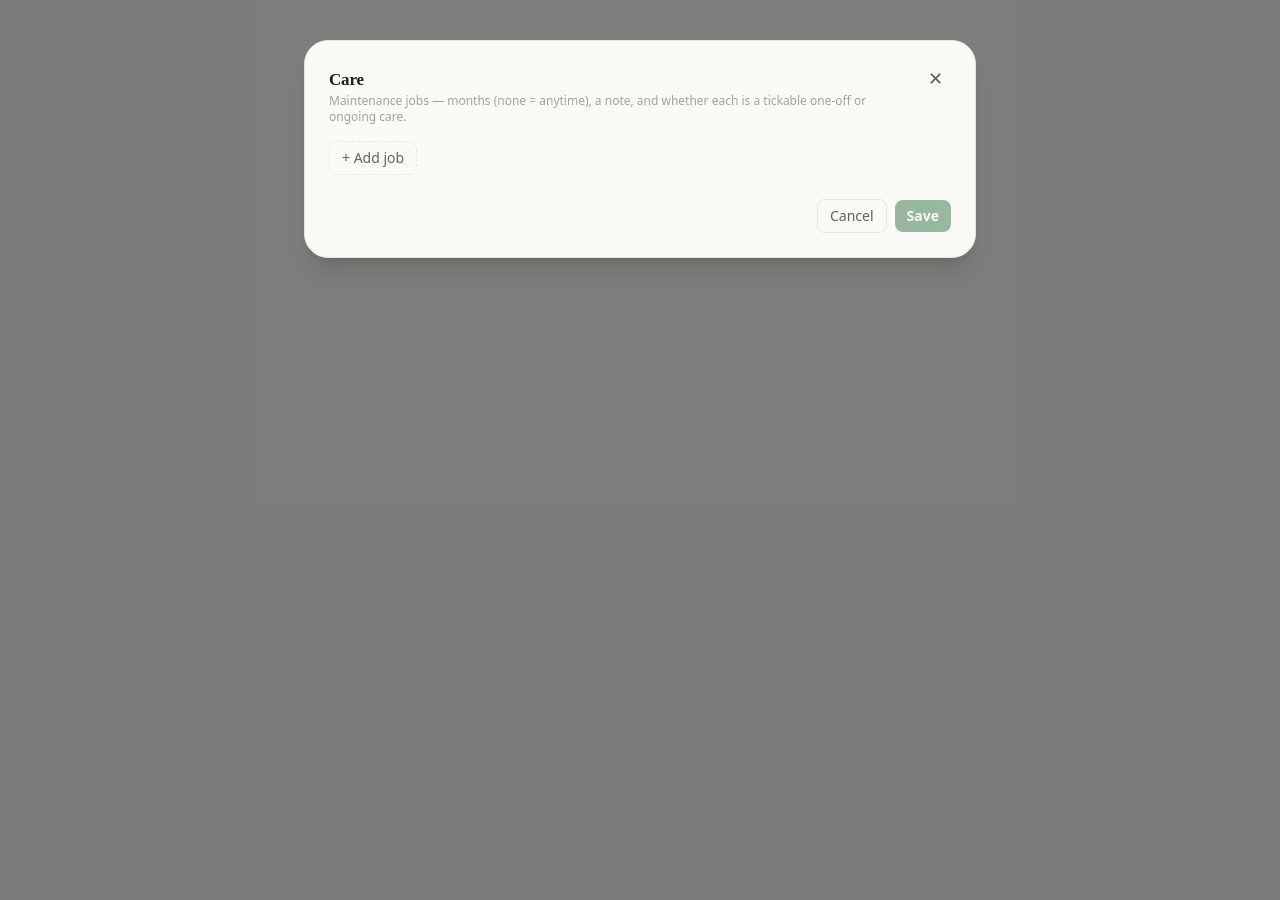
Test case: CareEditor › adding a blank job stays clean until it has an action
Click the button "+ Add job": (373, 158) [329,140,417,174]
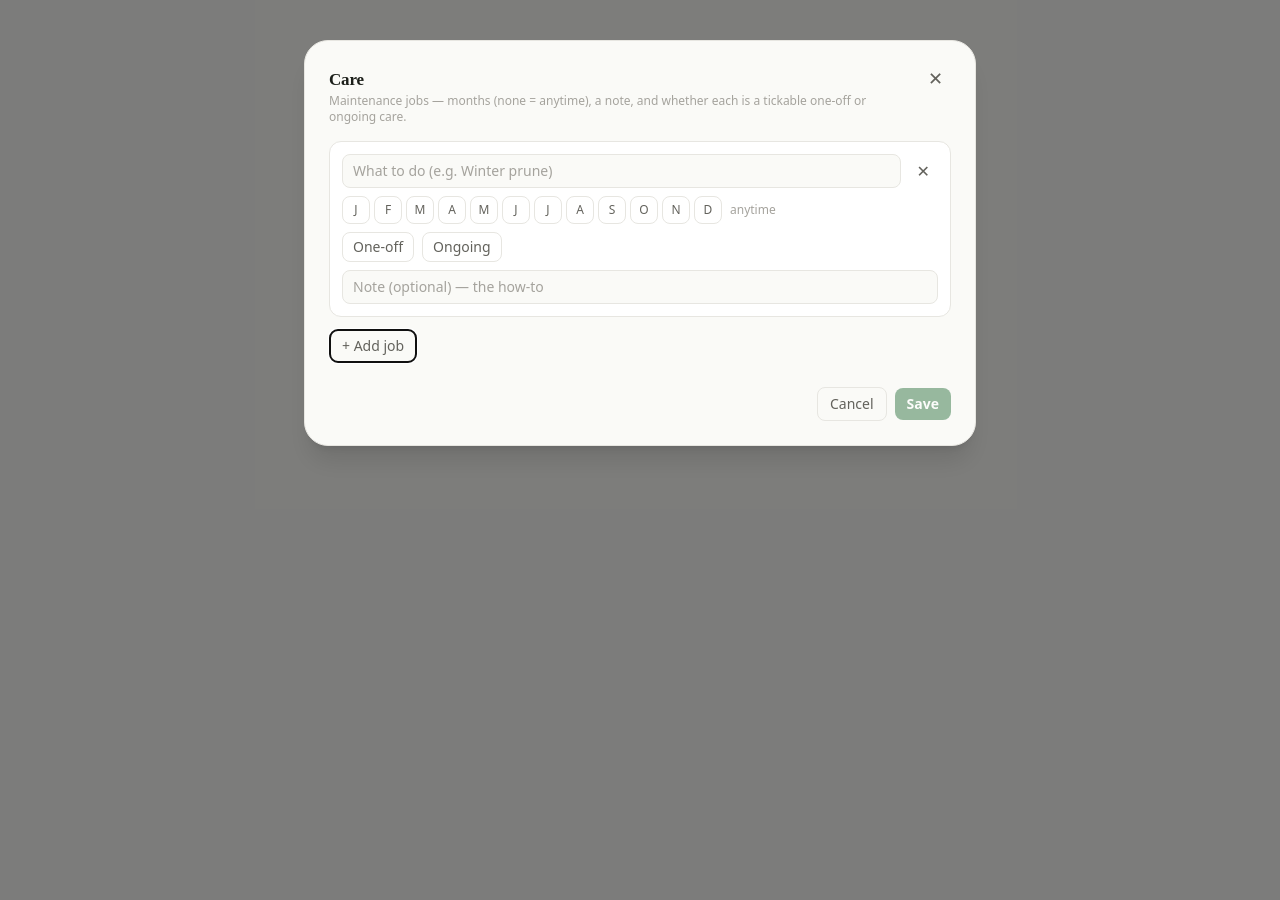
expect the button "Save" is disabled: met, box [895,388,951,420]
In the field named "Job 1 action": (621, 170) [342,154,901,188], type "Mulch"
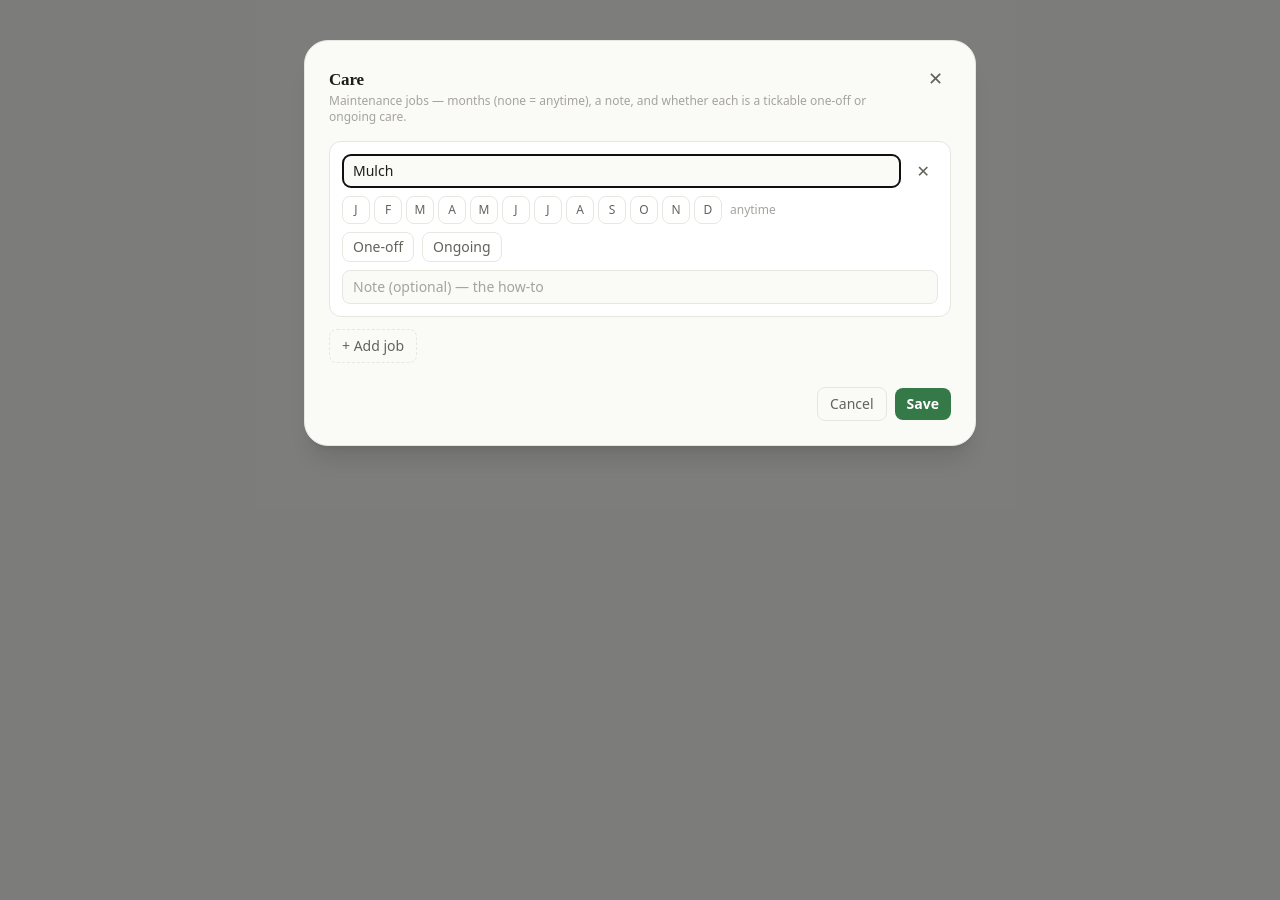
expect the button "Save" is enabled: met, box [895,388,951,420]
